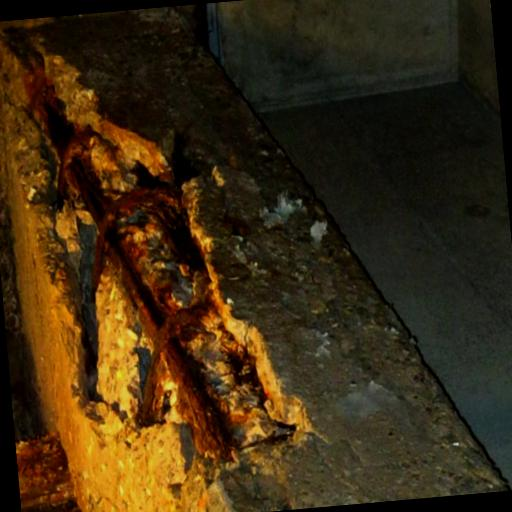spalling: (1, 31, 309, 470)
